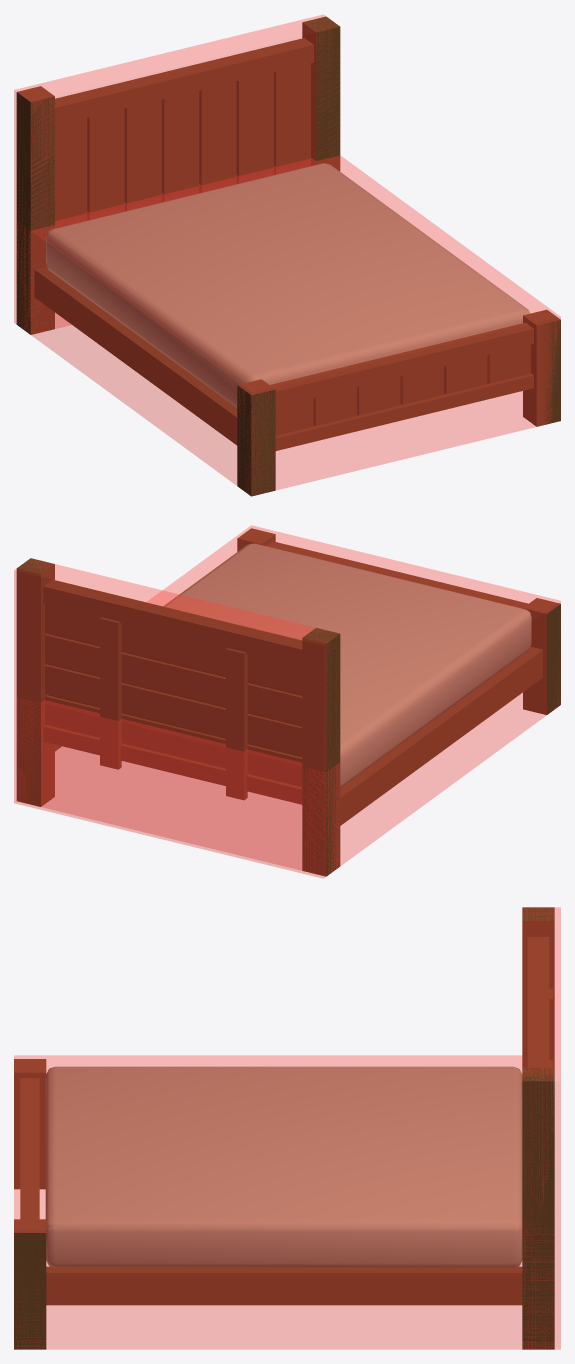
The model's file is BedB01.glb.
3 views of the same model, one above another, from view 1: azimuth 30°, elevation 25°; view 2: azimuth 150°, elevation 25°; view 3: azimuth 270°, elevation 25° (orthographic). The views are drawn at different scales.
Parts seen in each view (by area): view 1: Col_Bed, Body_Wood, Body_Mattress, Col_Headboard, Body_WoodDark; view 2: Col_Bed, Col_Headboard, Body_Wood, Body_Mattress, Body_WoodDark; view 3: Col_Bed, Body_Mattress, Body_Wood, Col_Headboard.
Boxes of the visible parts, x1,y1,x2,y2 form: Col_Bed: [17, 155, 560, 493]; Body_Wood: [16, 16, 560, 496]; Body_Mattress: [46, 163, 529, 407]; Col_Headboard: [14, 14, 339, 332]; Body_WoodDark: [87, 73, 488, 425]; Col_Bed: [20, 525, 560, 873]; Col_Headboard: [14, 558, 338, 878]; Body_Wood: [16, 528, 560, 876]; Body_Mattress: [163, 543, 531, 787]; Body_WoodDark: [47, 633, 301, 756]; Col_Bed: [14, 1055, 554, 1349]; Body_Mattress: [45, 1066, 522, 1267]; Body_Wood: [14, 907, 554, 1349]; Col_Headboard: [522, 907, 560, 1349].
Size of the model in its own units: 6.4 by 4.6 by 8.5.
